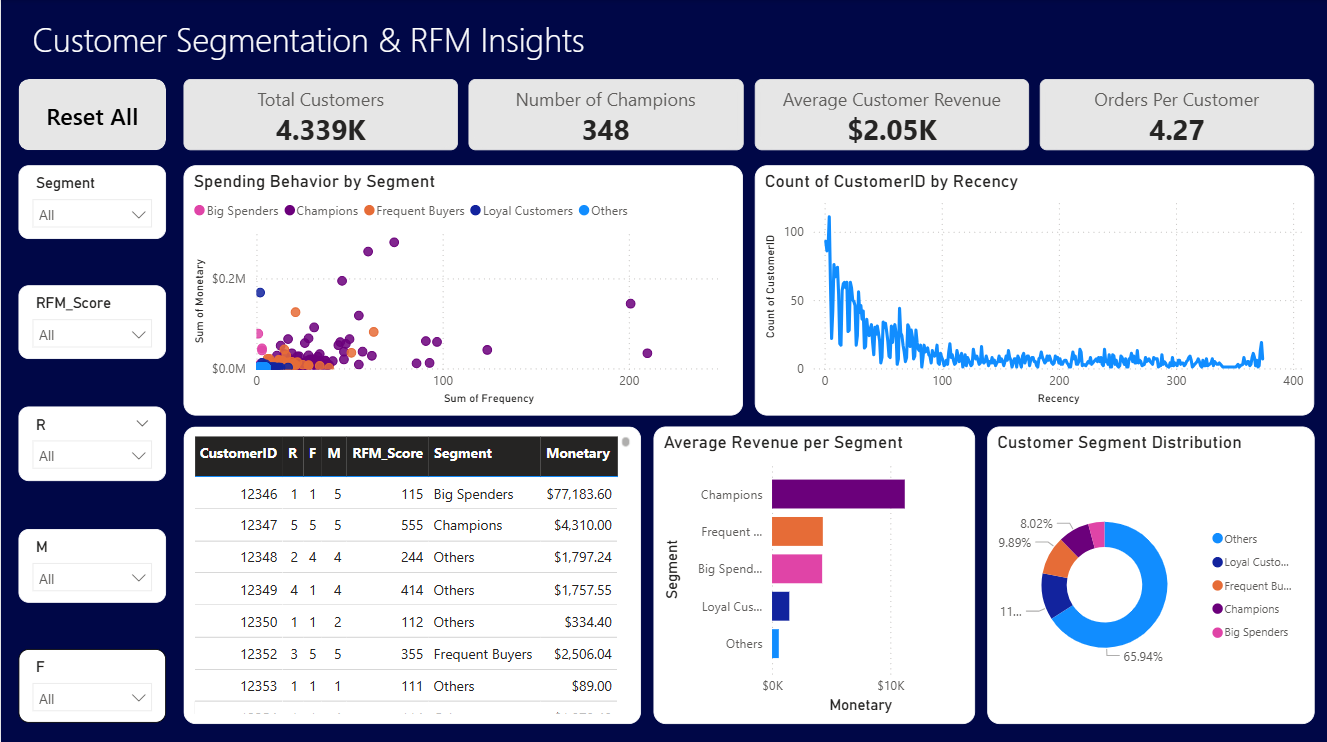

The dashboard page shown, as its layout file describes it:
{"tool":"powerbi","page":{"name":"Page 1","canvas":[1280,720],"ordinal":0},"visuals":[{"type":"donutChart","title":"Customer Segment Distribution","fields":{"Y":["CountNonNull(rfm_segments.CustomerID)"],"Category":["rfm_segments.Segment"]},"box":[951.9,412.6,316.1,287.1],"z":1000},{"type":"clusteredBarChart","title":"Average Revenue per Segment","fields":{"Category":["rfm_segments.Segment"],"Y":["Avg(rfm_segments.Monetary)"]},"box":[629.8,412.6,310.1,287.1],"z":2000},{"type":"lineChart","fields":{"Category":["rfm_segments.Recency"],"Y":["CountNonNull(rfm_segments.CustomerID)"]},"box":[727.5,160.5,540,241.3],"z":3000},{"type":"scatterChart","title":"Spending Behavior by Segment","fields":{"Category":["rfm_segments.CustomerID"],"X":["Sum(rfm_segments.Frequency)"],"Y":["Sum(rfm_segments.Monetary)"],"Series":["rfm_segments.Segment"]},"box":[176.1,160.5,540,241.3],"z":4000},{"type":"tableEx","fields":{"Values":["rfm_segments.CustomerID","rfm_segments.R","rfm_segments.F","rfm_segments.M","rfm_segments.RFM_Score","rfm_segments.Segment","rfm_segments.Monetary"]},"box":[176.1,412.6,441.6,287.1],"z":5000},{"type":"cardVisual","fields":{"Data":["Count(rfm_segments.CustomerID)"]},"box":[175.6,76.8,265,68.6],"z":6000},{"type":"cardVisual","fields":{"Data":["rfm_segments.Champions"]},"box":[451.2,77.2,265.4,68.8],"z":7000},{"type":"cardVisual","fields":{"Data":["Avg(rfm_segments.Monetary)"]},"box":[727.3,76.8,265,68.6],"z":8000},{"type":"cardVisual","fields":{"Data":["Avg(rfm_segments.Frequency)"]},"box":[1003.1,76.8,265,68.6],"z":9000},{"type":"actionButton","box":[16.9,77.2,142.4,68.8],"z":10000},{"type":"slicer","fields":{"Values":["rfm_segments.Segment"]},"box":[16.9,160.5,142.4,71.2],"z":11000},{"type":"slicer","fields":{"Values":["rfm_segments.F"]},"box":[16.9,627.3,142.4,71.2],"z":12000},{"type":"slicer","fields":{"Values":["rfm_segments.RFM_Score"]},"box":[16.9,276.3,142.4,71.2],"z":13000},{"type":"slicer","fields":{"Values":["rfm_segments.R"]},"box":[16.9,393.3,142.4,72.4],"z":14000},{"type":"slicer","fields":{"Values":["rfm_segments.M"]},"box":[16.9,511.5,142.4,71.2],"z":15000},{"type":"textbox","box":[25.3,12.1,641.8,53.1],"z":16000}]}

Visuals, with their boxes in screenshot pixels (x1, y1, x2, y2), scaled from the page's 1280x720 canvas onto the 1327x742 screenshot:
"Customer Segment Distribution" donutChart: {"left": 987, "top": 425, "right": 1315, "bottom": 721}
"Average Revenue per Segment" clusteredBarChart: {"left": 653, "top": 425, "right": 974, "bottom": 721}
lineChart - rfm_segments.Recency x CountNonNull(rfm_segments.CustomerID): {"left": 754, "top": 165, "right": 1314, "bottom": 414}
"Spending Behavior by Segment" scatterChart: {"left": 183, "top": 165, "right": 742, "bottom": 414}
tableEx - rfm_segments.CustomerID x rfm_segments.R: {"left": 183, "top": 425, "right": 640, "bottom": 721}
cardVisual - Count(rfm_segments.CustomerID): {"left": 182, "top": 79, "right": 457, "bottom": 150}
cardVisual - rfm_segments.Champions: {"left": 468, "top": 80, "right": 743, "bottom": 150}
cardVisual - Avg(rfm_segments.Monetary): {"left": 754, "top": 79, "right": 1029, "bottom": 150}
cardVisual - Avg(rfm_segments.Frequency): {"left": 1040, "top": 79, "right": 1315, "bottom": 150}
actionButton: {"left": 18, "top": 80, "right": 165, "bottom": 150}
slicer - rfm_segments.Segment: {"left": 18, "top": 165, "right": 165, "bottom": 239}
slicer - rfm_segments.F: {"left": 18, "top": 646, "right": 165, "bottom": 720}
slicer - rfm_segments.RFM_Score: {"left": 18, "top": 285, "right": 165, "bottom": 358}
slicer - rfm_segments.R: {"left": 18, "top": 405, "right": 165, "bottom": 480}
slicer - rfm_segments.M: {"left": 18, "top": 527, "right": 165, "bottom": 601}
textbox: {"left": 26, "top": 12, "right": 692, "bottom": 67}
